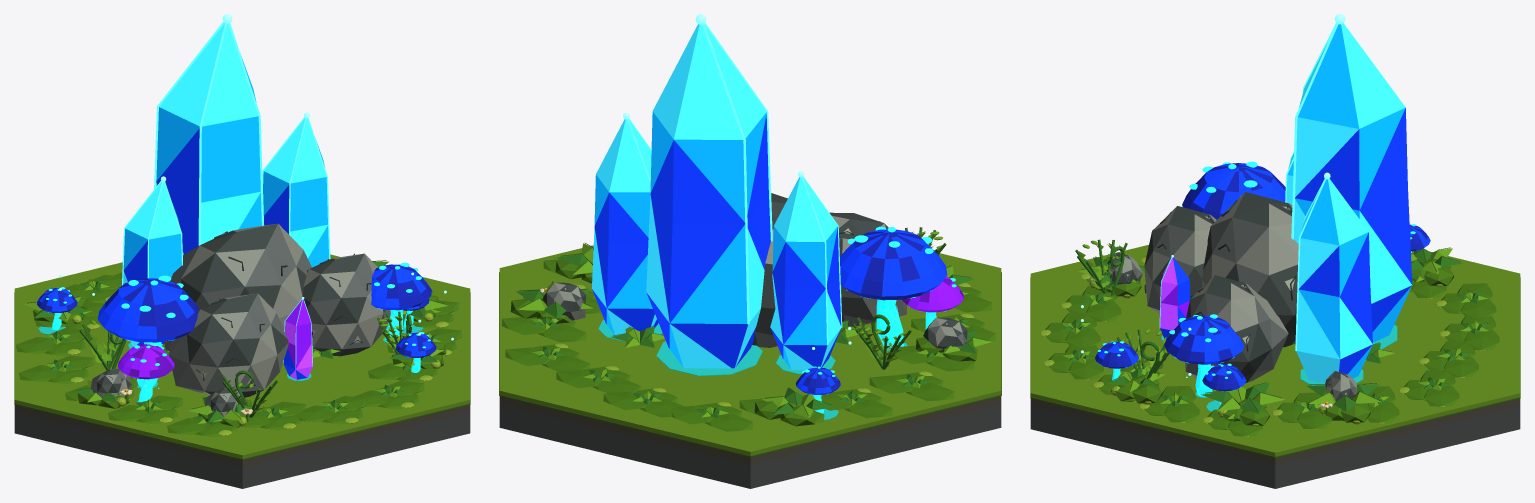
The model's file is hex_mystical_grove.glb.
3 views of the same model, side by side, from view 1: azimuth 30°, elevation 25°; view 2: azimuth 150°, elevation 25°; view 3: azimuth 270°, elevation 25° (orthographic). The views are drawn at different scales.
Visible parts, largest first — view 1: Standard hex meadow top.001, Faceted magical crystal.001, Standard hex stone foundation.001, Angular mossy forest boulder.002, Angular mossy forest boulder.001, Faceted magical crystal.003, Angular mossy forest boulder.003, Broad faceted mushroom cap.001, Faceted magical crystal.002, Standard hex earth layer.001, Broad faceted mushroom cap.002, Faceted magical crystal.005 (+11 smaller); view 2: Faceted magical crystal.001, Standard hex meadow top.001, Standard hex stone foundation.001, Faceted magical crystal.002, Faceted magical crystal.003, Broad faceted mushroom cap.001, Standard hex earth layer.001, Angular mossy forest boulder.002, Angular mossy forest boulder.001, Broad faceted mushroom cap.004, Crystal ground reflection.001, Angular mossy forest boulder.005 (+16 smaller); view 3: Standard hex meadow top.001, Faceted magical crystal.001, Faceted magical crystal.003, Standard hex stone foundation.001, Angular mossy forest boulder.001, Angular mossy forest boulder.003, Angular mossy forest boulder.002, Standard hex earth layer.001, Broad faceted mushroom cap.001, Broad faceted mushroom cap.002, Faceted magical crystal.005, Broad faceted mushroom cap.008 (+13 smaller).
Boxes of the visible parts, x1,y1,x2,y2 form: Standard hex meadow top.001: (14,254,470,458); Faceted magical crystal.001: (156,23,261,254); Standard hex stone foundation.001: (14,412,470,488); Angular mossy forest boulder.002: (169,293,288,397); Angular mossy forest boulder.001: (164,223,311,351); Faceted magical crystal.003: (263,118,328,267); Angular mossy forest boulder.003: (303,253,390,356); Broad faceted mushroom cap.001: (98,278,199,342); Faceted magical crystal.002: (123,182,181,346); Standard hex earth layer.001: (14,404,470,467); Broad faceted mushroom cap.002: (371,264,431,310); Faceted magical crystal.005: (283,299,312,379); Faceted magical crystal.001: (646,24,770,368); Standard hex meadow top.001: (499,245,1001,455); Standard hex stone foundation.001: (499,404,1001,488); Faceted magical crystal.002: (770,177,841,369); Faceted magical crystal.003: (592,119,658,335); Broad faceted mushroom cap.001: (840,229,947,300); Standard hex earth layer.001: (499,396,1001,465); Angular mossy forest boulder.002: (829,212,906,326); Angular mossy forest boulder.001: (752,193,842,347); Broad faceted mushroom cap.004: (902,276,963,312); Crystal ground reflection.001: (656,341,762,376); Angular mossy forest boulder.005: (542,282,585,320); Standard hex meadow top.001: (1030,245,1520,456); Faceted magical crystal.001: (1293,23,1412,342); Faceted magical crystal.003: (1296,178,1372,383); Standard hex stone foundation.001: (1030,406,1520,488); Angular mossy forest boulder.001: (1202,192,1298,347); Angular mossy forest boulder.003: (1185,275,1288,383); Angular mossy forest boulder.002: (1144,206,1216,314); Standard hex earth layer.001: (1030,398,1520,465); Broad faceted mushroom cap.001: (1182,163,1285,219); Broad faceted mushroom cap.002: (1164,315,1244,364); Faceted magical crystal.005: (1160,257,1190,339); Broad faceted mushroom cap.008: (1202,364,1246,391).
Bounding box in the file's own units: 5.11 × 3.61 × 4.42.
